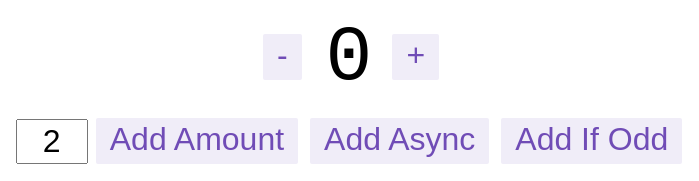
Test case: Counter component › decrements the counter
The width and height of the screenshot is (699, 181).
Expected: the text "0" is shown, [326,14,372,102]
Click the button named "decrement value" at (282, 57), box [263,34,302,80]
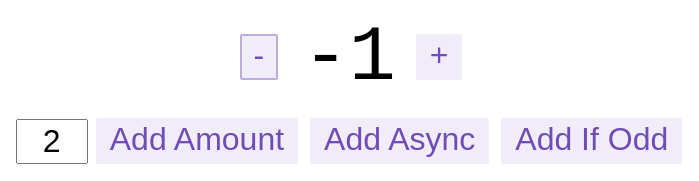
Result: the text "-1" is shown at [302,14,396,102]
